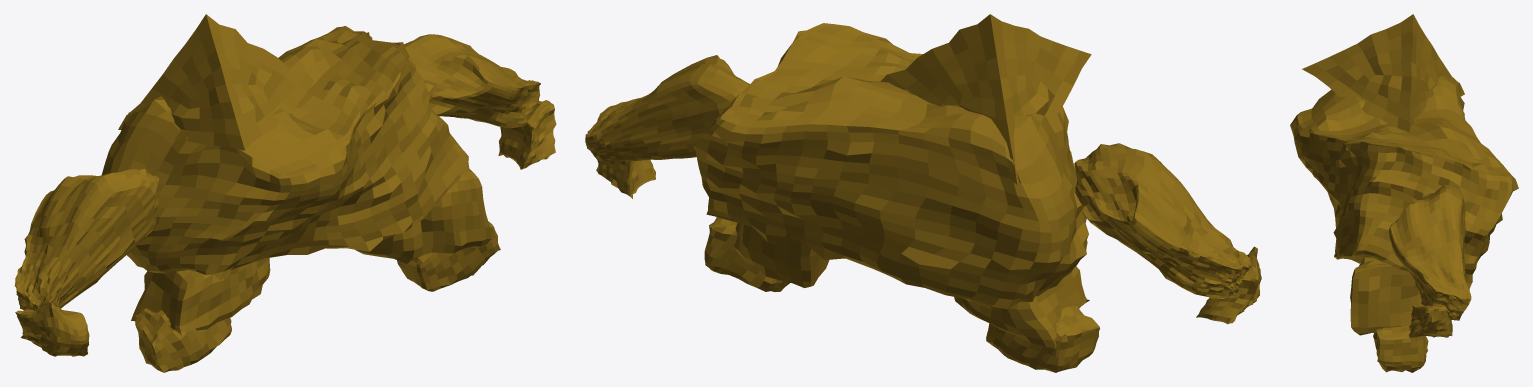
File: SandTalus.fbx
3 views of the same model, side by side, from view 1: azimuth 30°, elevation 25°; view 2: azimuth 150°, elevation 25°; view 3: azimuth 270°, elevation 25° (orthographic). The views are drawn at different scales.
Parts seen in each view (by area): view 1: Head, RightArm, Pyramid, LeftArm, RightLeg, LeftLeg, RightFoot, RightHand, LeftFoor, LeftHand; view 2: Head, RightArm, Pyramid, LeftArm, RightLeg, RightFoot, LeftLeg, LeftFoor, RightHand, LeftHand; view 3: Head, Pyramid, LeftArm, LeftLeg, LeftFoor, LeftHand.
Part boxes in pixels (x1,y1,x2,y2): Head: (102, 26, 469, 280); RightArm: (14, 168, 159, 310); Pyramid: (118, 14, 314, 150); LeftArm: (403, 34, 540, 128); RightLeg: (131, 258, 270, 335); LeftLeg: (355, 169, 491, 263); RightFoot: (134, 308, 231, 372); RightHand: (15, 302, 89, 356); LeftFoor: (397, 221, 500, 291); LeftHand: (498, 100, 556, 169); Head: (693, 23, 1088, 309); RightArm: (1074, 143, 1251, 299); Pyramid: (880, 14, 1091, 184); LeftArm: (585, 55, 749, 162); RightLeg: (954, 266, 1089, 348); RightFoot: (986, 305, 1099, 372); LeftLeg: (734, 223, 829, 287); LeftFoor: (704, 217, 789, 291); RightHand: (1196, 246, 1261, 324); LeftHand: (596, 160, 655, 198); Head: (1290, 75, 1518, 290); Pyramid: (1302, 14, 1464, 132); LeftArm: (1389, 185, 1471, 320); LeftLeg: (1350, 257, 1421, 335); LeftFoor: (1373, 325, 1428, 372); LeftHand: (1408, 305, 1452, 338).
Bounding box in the file's own units: 811 × 436 × 334.
